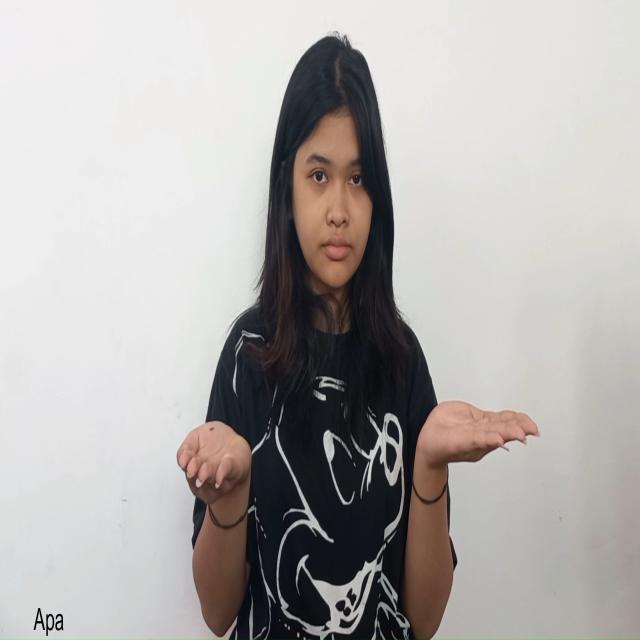Apa -BISINDO-: (174, 397, 543, 510)
